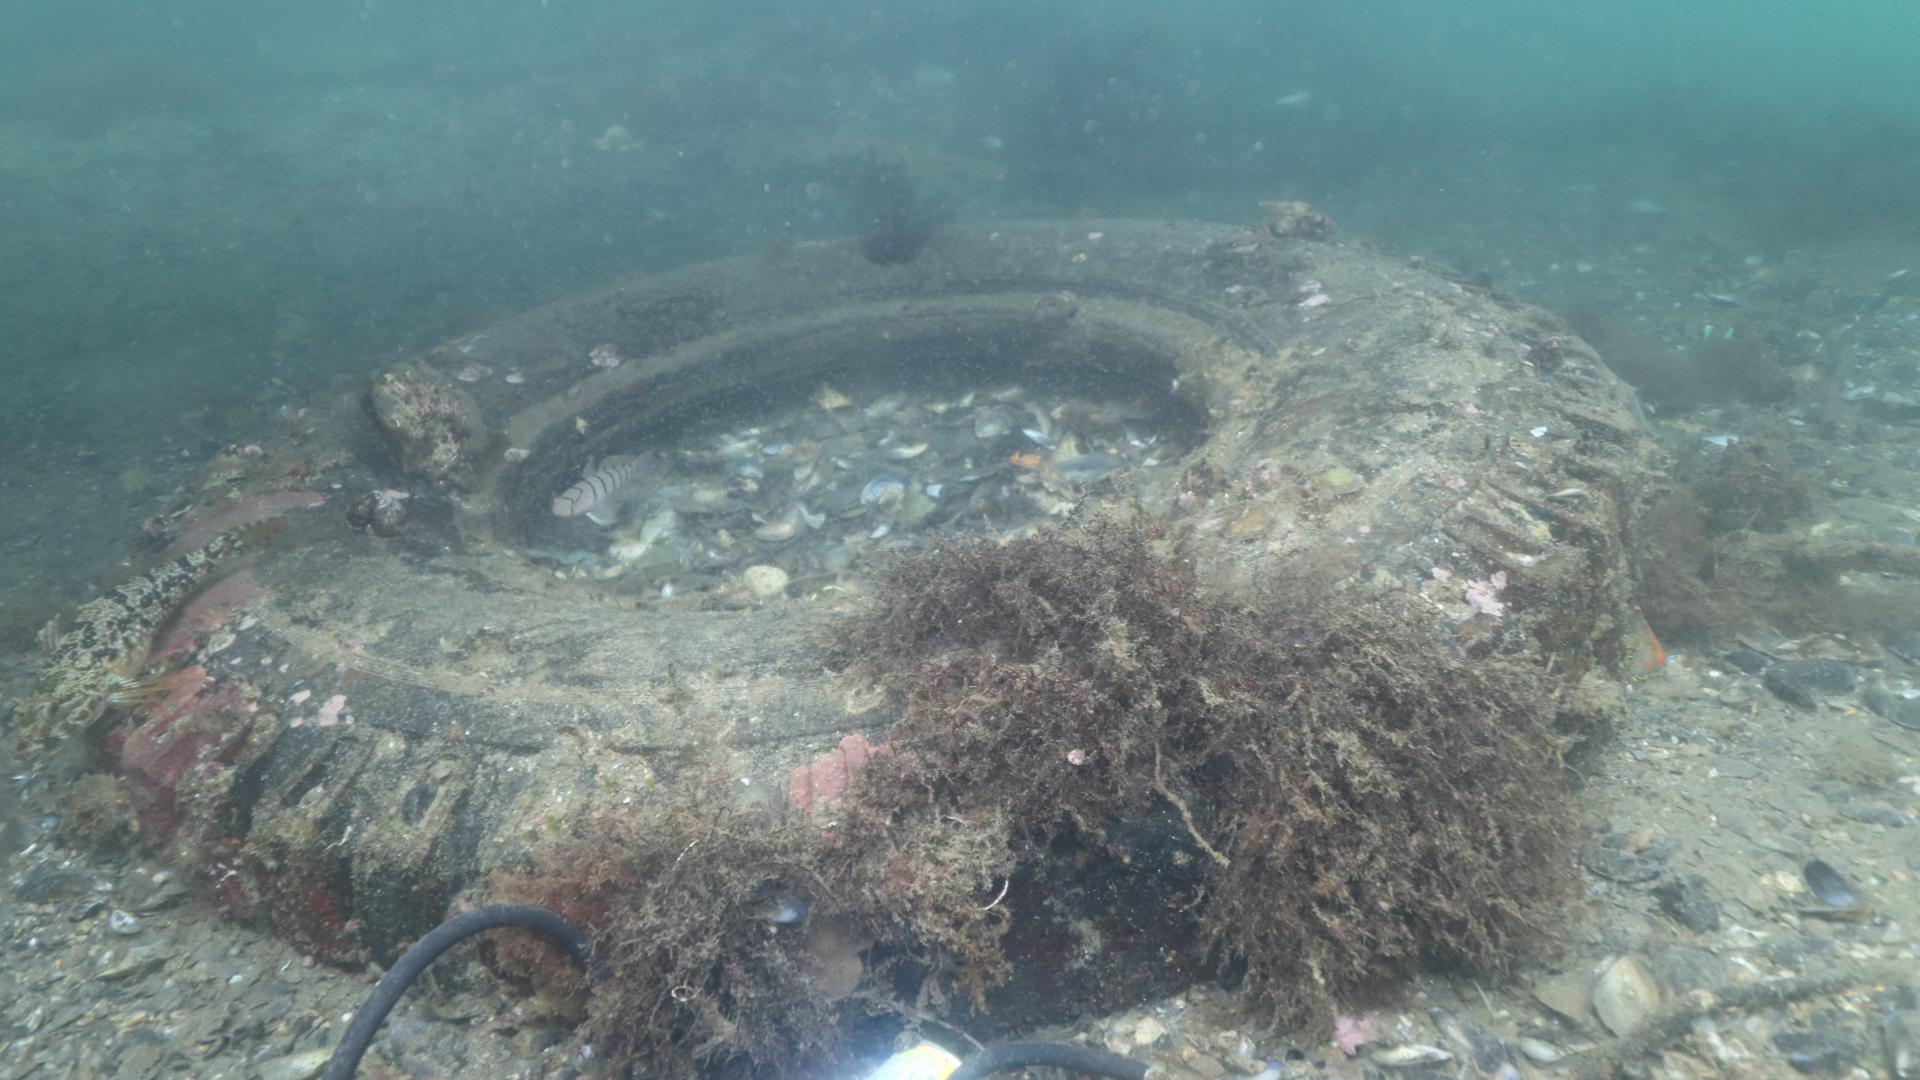tire: (98, 206, 1669, 1001)
